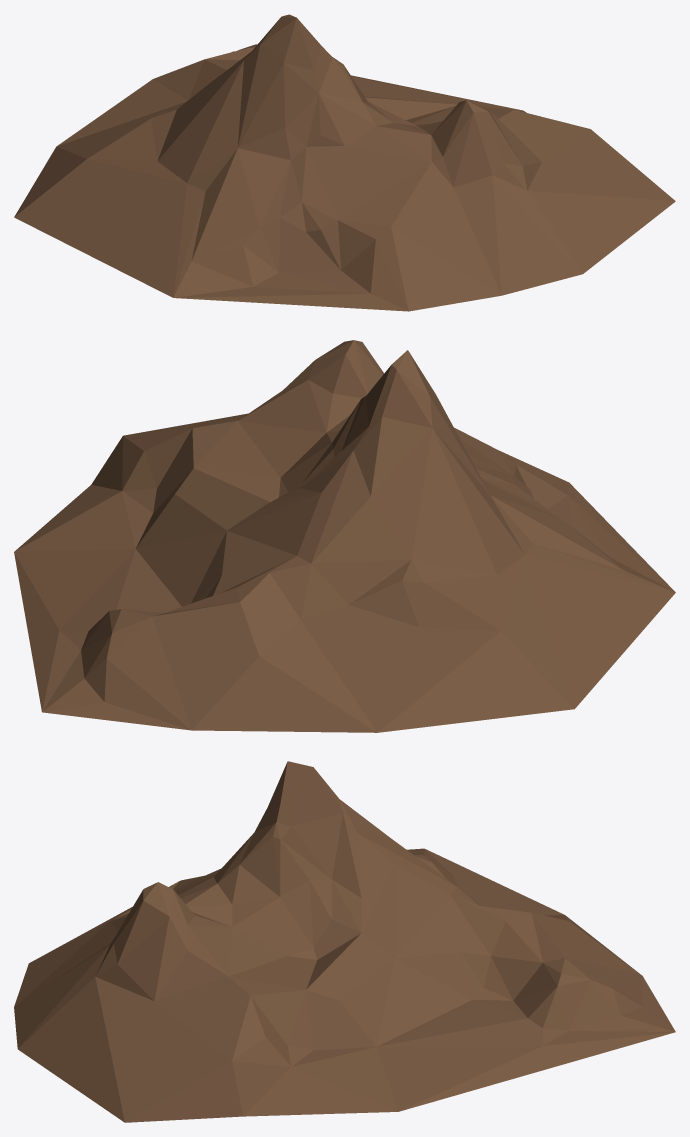
File: Terrain_Mountain_004.fbx
The picture shows the model from 3 angles, top to bottom: view 1: azimuth 30°, elevation 25°; view 2: azimuth 150°, elevation 25°; view 3: azimuth 270°, elevation 25°; orthographic projection. The views are drawn at different scales.
Visible parts, largest first — view 1: Terrain_Mountain_004; view 2: Terrain_Mountain_004; view 3: Terrain_Mountain_004.
Part boxes in pixels (left/top/right/bottom): Terrain_Mountain_004: left=14, top=14, right=675, bottom=311; Terrain_Mountain_004: left=14, top=340, right=675, bottom=732; Terrain_Mountain_004: left=14, top=761, right=675, bottom=1122.
Bounding box in the file's own units: 55.67 × 20.74 × 59.67.
